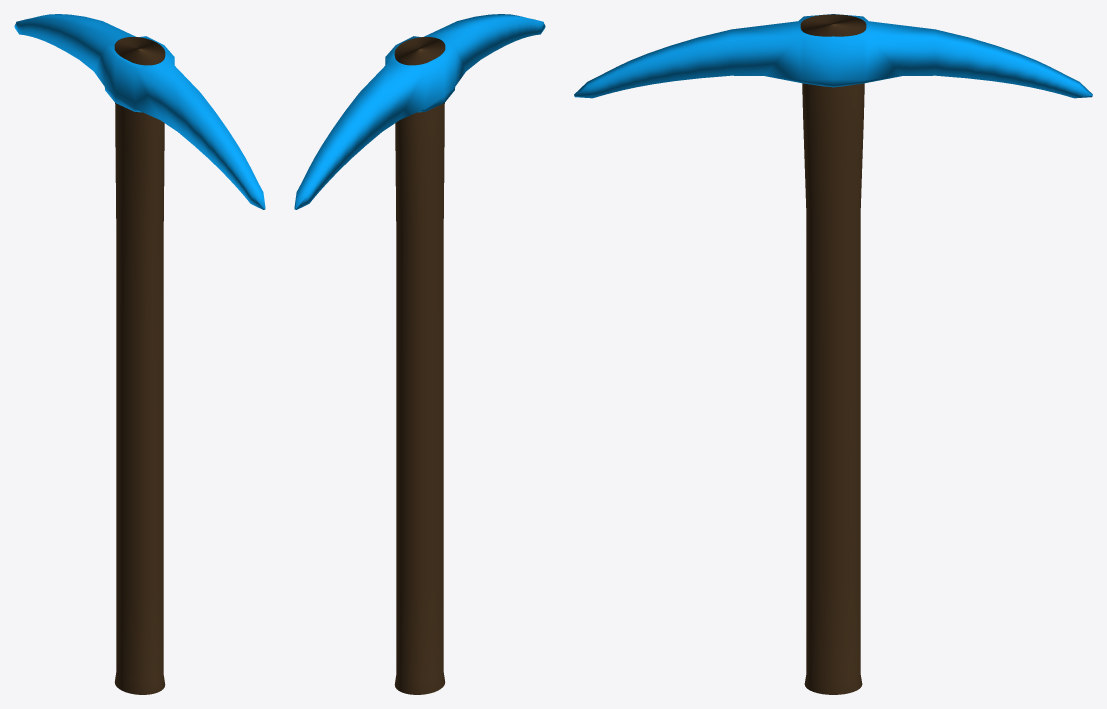
Rendered from dpick.glb.
The picture shows the model from 3 angles, left to right: view 1: azimuth 30°, elevation 25°; view 2: azimuth 150°, elevation 25°; view 3: azimuth 270°, elevation 25°; orthographic projection. The views are drawn at different scales.
Parts seen in each view (by area): view 1: Cylinder, Cube; view 2: Cylinder, Cube; view 3: Cylinder, Cube.
Part boxes in pixels (bbox=[...]): Cylinder: bbox=[114, 37, 165, 694]; Cube: bbox=[14, 14, 265, 209]; Cylinder: bbox=[394, 37, 445, 694]; Cube: bbox=[294, 14, 545, 209]; Cylinder: bbox=[800, 14, 866, 694]; Cube: bbox=[574, 14, 1092, 98].
Size of the model in its own units: 0.2572 by 3.17 by 2.26.
